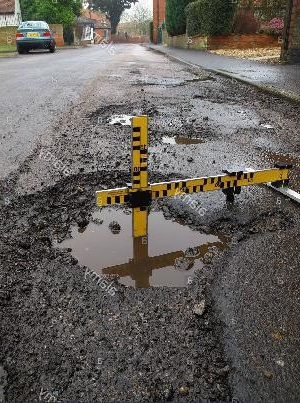pothole: (0, 164, 236, 333), (87, 96, 156, 129), (157, 128, 211, 145)
